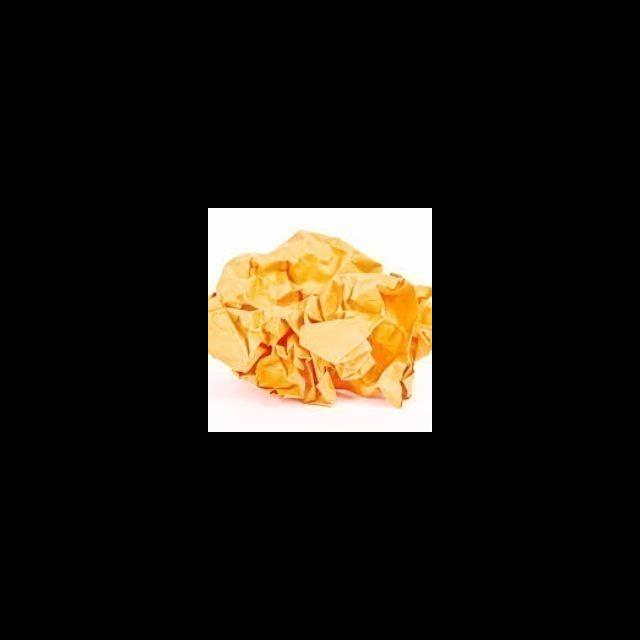paper: (208, 222, 432, 409)
